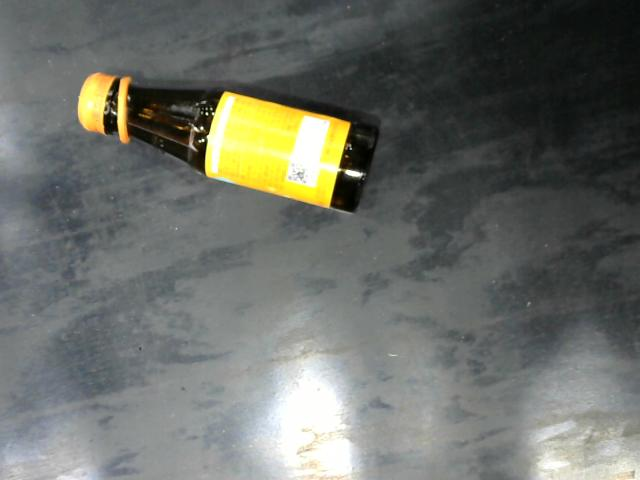glass: (79, 61, 383, 219)
